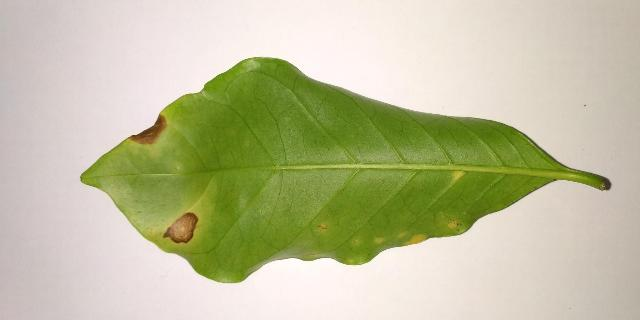miner: (128, 113, 167, 145), (163, 212, 198, 245), (404, 234, 426, 246), (452, 170, 464, 182), (447, 220, 459, 230), (318, 223, 327, 231), (376, 237, 385, 244)
